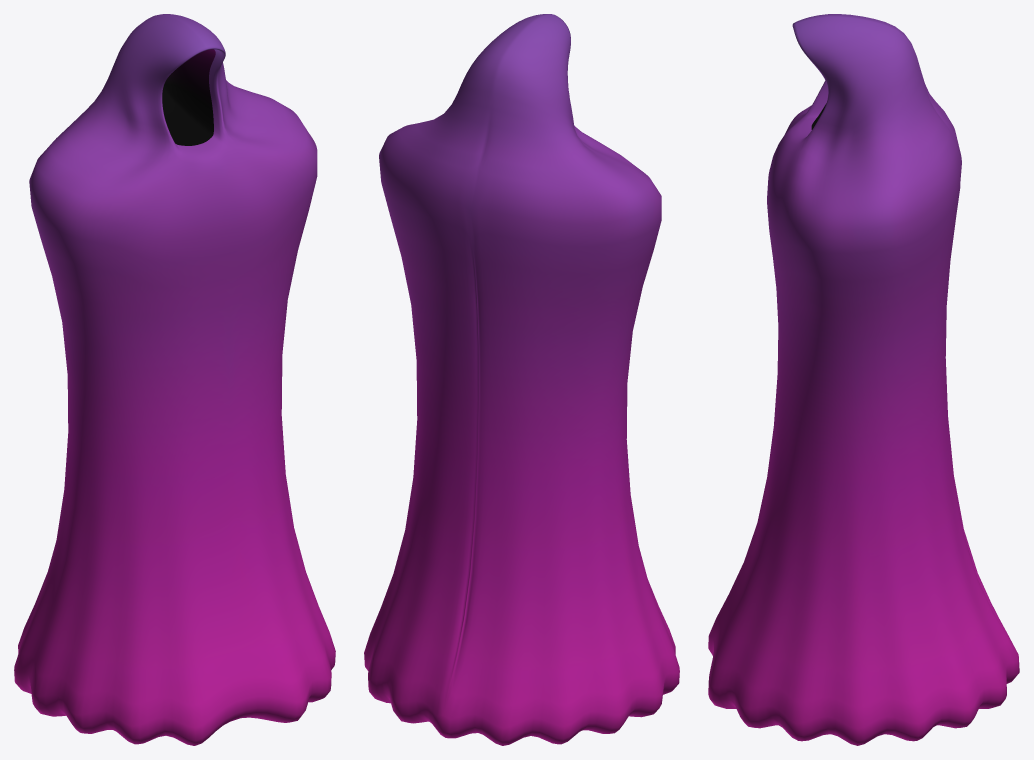
The model's file is Tänzer1.glb.
The picture shows the model from 3 angles, left to right: view 1: azimuth 30°, elevation 25°; view 2: azimuth 150°, elevation 25°; view 3: azimuth 270°, elevation 25°; orthographic projection.
Visible parts, largest first — view 1: MaskedOne; view 2: MaskedOne; view 3: MaskedOne.
Part boxes in pixels (left/top/right/bottom): MaskedOne: left=14, top=14, right=335, bottom=745; MaskedOne: left=364, top=14, right=679, bottom=745; MaskedOne: left=708, top=14, right=1019, bottom=745.
Bounding box in the file's own units: 0.4222 × 0.9598 × 0.4042.
Materials: 1 (1 with a texture image).
